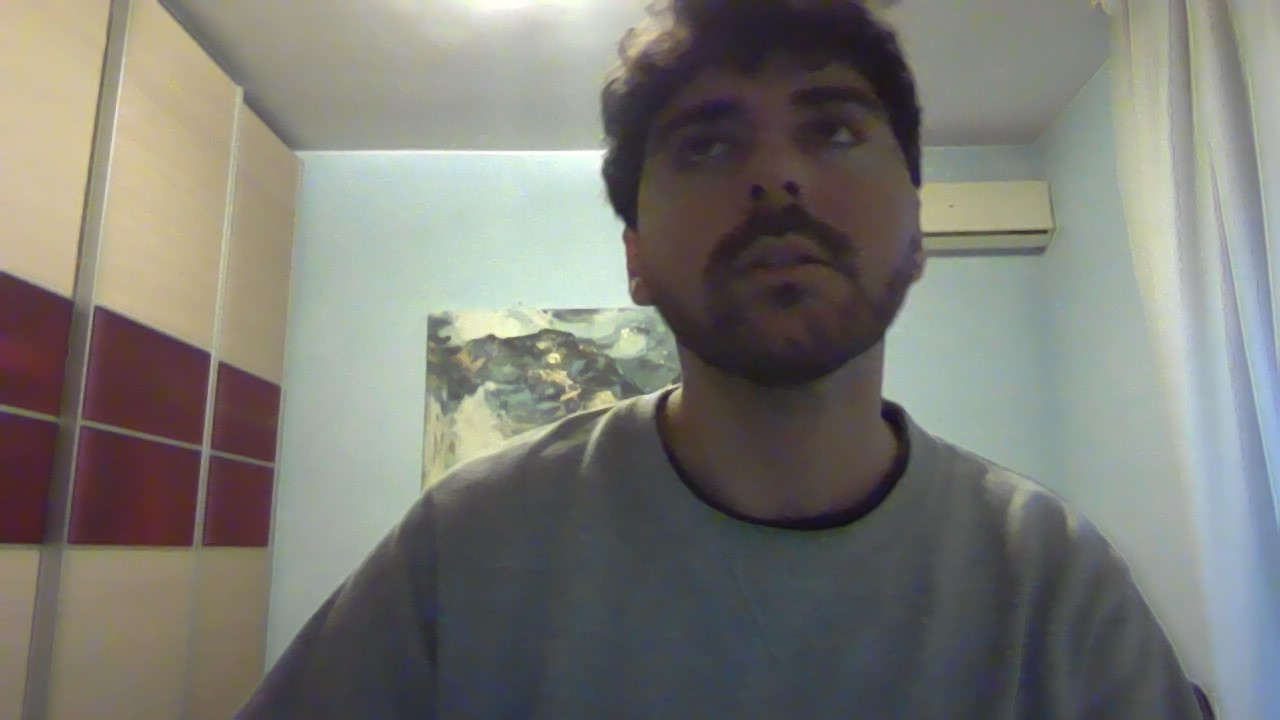NoGlasses: (607, 92, 949, 171)
